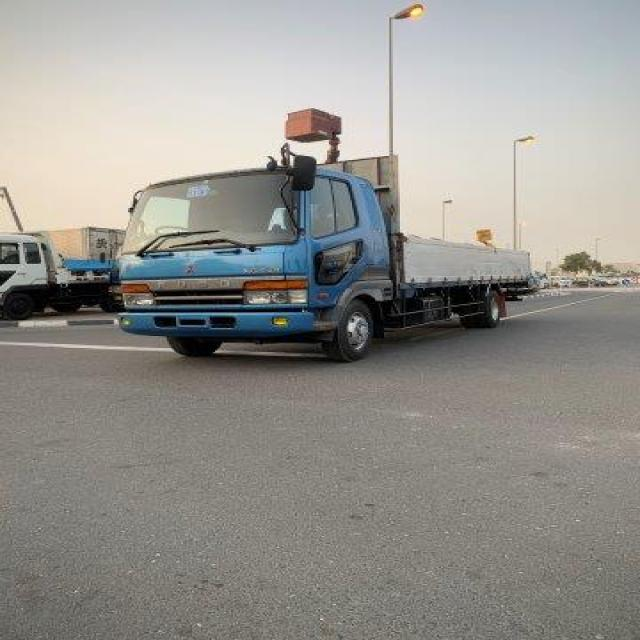truck: (112, 150, 533, 362)
